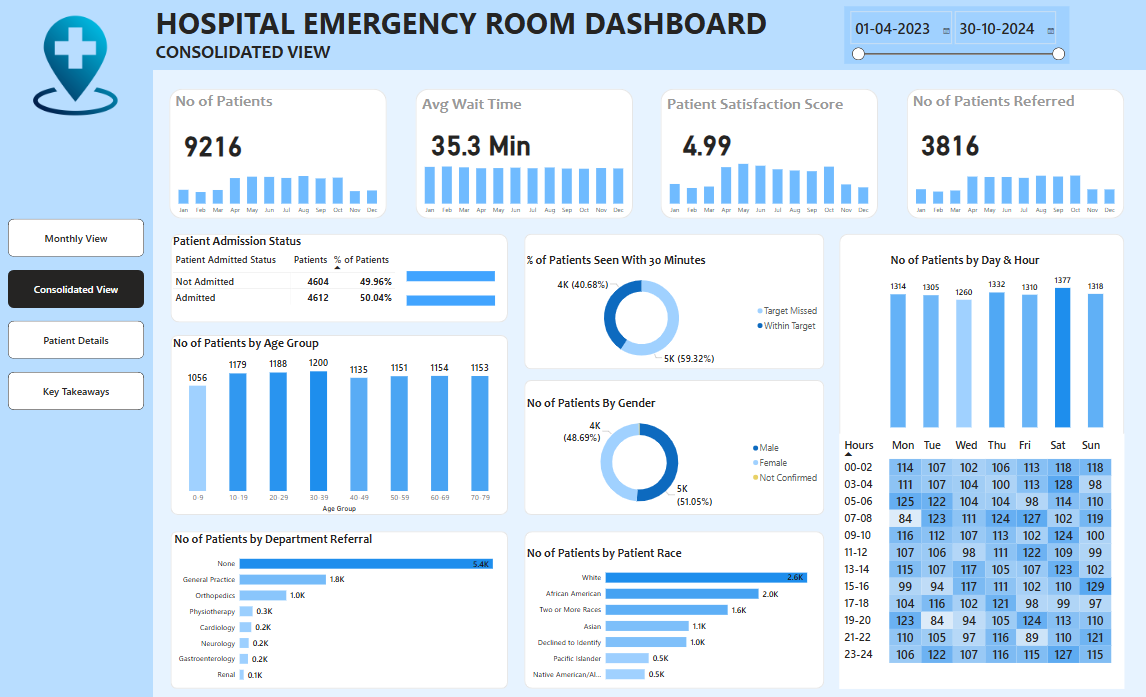

The page's visual inventory and layout, read from the dashboard file:
{"tool":"powerbi","page":{"name":"Consolidated View","canvas":[2300,1400],"ordinal":1},"visuals":[{"type":"shape","box":[0,0,310,1400],"z":0},{"type":"shape","box":[310,0,1990,140],"z":1000},{"type":"textbox","box":[310,0,1242.5,105],"z":2000},{"type":"shape","box":[343.5,176.5,435,260],"z":3000},{"type":"textbox","box":[310,75,405,65],"z":4000},{"type":"card","fields":{"Values":["Hospital ER_Data.No of Patients"]},"box":[343.5,241.5,175,87.5],"z":5000},{"type":"slicer","fields":{"Values":["Date Table.Date"]},"box":[1692.5,12.5,450,115],"z":6000},{"type":"textbox","box":[343.5,176.5,290,65],"z":7000},{"type":"columnChart","fields":{"Category":["Date Table.Month"],"Y":["Hospital ER_Data.No of Patients"]},"box":[342.5,312.5,435,125],"z":8000},{"type":"shape","box":[834.8,177.5,435,260],"z":9000},{"type":"card","fields":{"Values":["Hospital ER_Data.Avg wait time"]},"box":[835.6,240,262.2,86.7],"z":10000},{"type":"textbox","box":[835,177.5,290,65],"z":11000},{"type":"columnChart","fields":{"Category":["Date Table.Month"],"Y":["Avg(Hospital ER_Data.Patient Waittime)"]},"box":[835,312.5,435,125],"z":12000},{"type":"shape","box":[1326.2,177.5,435,260],"z":13000},{"type":"card","fields":{"Values":["Hospital ER_Data.AVG Patient Satisfaction Score"]},"box":[1324.4,240,186.7,86.7],"z":14000},{"type":"textbox","box":[1324.4,177.8,411.1,64.4],"z":15000},{"type":"columnChart","fields":{"Category":["Date Table.Month"],"Y":["Sum(Hospital ER_Data.Patient Satisfaction Score)"]},"box":[1325,312.5,435,125],"z":16000},{"type":"shape","box":[1817.5,177.5,435,260],"z":17000},{"type":"card","fields":{"Values":["Hospital ER_Data.Patients referred"]},"box":[1817.5,240,175,87.5],"z":18000},{"type":"textbox","box":[1817.8,177.8,400,64.4],"z":19000},{"type":"columnChart","fields":{"Category":["Date Table.Month"],"Y":["Hospital ER_Data.Patients referred"]},"box":[1817.5,312.5,435,125],"z":20000},{"type":"shape","box":[344.4,466.7,675.6,177.8],"z":21000},{"type":"pivotTable","title":"Patient Admission Status","fields":{"Rows":["Hospital ER_Data.Patient Admitted Status"],"Values":["Hospital ER_Data.No of Patients1","Divide(Hospital ER_Data.No of Patients, ScopedEval(Hospital ER_Data.No of Patients, []))"]},"box":[344.4,466.7,675.6,177.8],"z":22000},{"type":"barChart","fields":{"Category":["Hospital ER_Data.Patient Admitted Status"],"Y":["Hospital ER_Data.No of Patients"]},"box":[813.3,504.4,240,140],"z":23000},{"type":"shape","box":[344.4,671.1,675.6,360],"z":24000},{"type":"clusteredColumnChart","fields":{"Category":["Hospital ER_Data.Age Group"],"Y":["Hospital ER_Data.No of Patients"]},"box":[344.4,671.1,675.6,360],"z":25000},{"type":"shape","box":[344.4,1062.2,675.6,315.6],"z":26000},{"type":"clusteredBarChart","fields":{"Category":["Hospital ER_Data.Department Referral"],"Y":["Hospital ER_Data.No of Patients"]},"box":[346.7,1062.2,673.3,315.6],"z":27000},{"type":"shape","box":[1053.3,466.7,600,271.1],"z":28000},{"type":"donutChart","title":"% of Patients Seen With 30 Minutes","fields":{"Category":["Hospital ER_Data.Wait time status"],"Y":["Hospital ER_Data.No of Patients"]},"box":[1052.5,505,600,232.5],"z":29000},{"type":"shape","box":[1052.5,760,600,270],"z":30000},{"type":"donutChart","title":"No of Patients By Gender","fields":{"Category":["Hospital ER_Data.Patient Gender"],"Y":["Hospital ER_Data.No of Patients"]},"box":[1052.5,790,600,240],"z":31000},{"type":"shape","box":[1052.5,1062.5,600,315],"z":32000},{"type":"clusteredBarChart","fields":{"Y":["Hospital ER_Data.No of Patients"],"Category":["Hospital ER_Data.Patient Race"]},"box":[1052.5,1090,600,287.5],"z":33000},{"type":"shape","box":[1682.5,467.5,570,910],"z":34000},{"type":"pivotTable","fields":{"Rows":["Hospital ER_Data.Wait Time Interval"],"Columns":["Date Table.Day name"],"Values":["Hospital ER_Data.No of Patients"]},"box":[1682,868,570,510],"z":35000},{"type":"columnChart","title":"No of Patients by Day & Hour","fields":{"Category":["Date Table.Day name"],"Y":["Hospital ER_Data.No of Patients"]},"box":[1780,506,438,356],"z":36000},{"type":"image","box":[50,17.5,210,227.5],"z":37000},{"type":"pageNavigator","box":[20,437.5,272.5,385],"z":38000}]}

Visuals, with their boxes in screenshot pixels (x1, y1, x2, y2), scaled from the page's 2300x1400 canvas onto the 1146x697 screenshot:
shape: [0,0,154,696]
shape: [154,0,1145,70]
textbox: [154,0,774,52]
shape: [171,88,388,217]
textbox: [154,37,356,70]
card - Hospital ER_Data.No of Patients: [171,120,258,164]
slicer - Date Table.Date: [843,6,1068,63]
textbox: [171,88,316,120]
columnChart - Date Table.Month x Hospital ER_Data.No of Patients: [171,156,387,218]
shape: [416,88,633,218]
card - Hospital ER_Data.Avg wait time: [416,119,547,163]
textbox: [416,88,561,121]
columnChart - Date Table.Month x Avg(Hospital ER_Data.Patient Waittime): [416,156,633,218]
shape: [661,88,878,218]
card - Hospital ER_Data.AVG Patient Satisfaction Score: [660,119,753,163]
textbox: [660,89,865,121]
columnChart - Date Table.Month x Sum(Hospital ER_Data.Patient Satisfaction Score): [660,156,877,218]
shape: [906,88,1122,218]
card - Hospital ER_Data.Patients referred: [906,119,993,163]
textbox: [906,89,1105,121]
columnChart - Date Table.Month x Hospital ER_Data.Patients referred: [906,156,1122,218]
shape: [172,232,508,321]
"Patient Admission Status" pivotTable: [172,232,508,321]
barChart - Hospital ER_Data.Patient Admitted Status x Hospital ER_Data.No of Patients: [405,251,525,321]
shape: [172,334,508,513]
clusteredColumnChart - Hospital ER_Data.Age Group x Hospital ER_Data.No of Patients: [172,334,508,513]
shape: [172,529,508,686]
clusteredBarChart - Hospital ER_Data.Department Referral x Hospital ER_Data.No of Patients: [173,529,508,686]
shape: [525,232,824,367]
"% of Patients Seen With 30 Minutes" donutChart: [524,251,823,367]
shape: [524,378,823,513]
"No of Patients By Gender" donutChart: [524,393,823,513]
shape: [524,529,823,686]
clusteredBarChart - Hospital ER_Data.No of Patients x Hospital ER_Data.Patient Race: [524,543,823,686]
shape: [838,233,1122,686]
pivotTable - Hospital ER_Data.Wait Time Interval x Date Table.Day name: [838,432,1122,686]
"No of Patients by Day & Hour" columnChart: [887,252,1105,429]
image: [25,9,130,122]
pageNavigator: [10,218,146,409]
